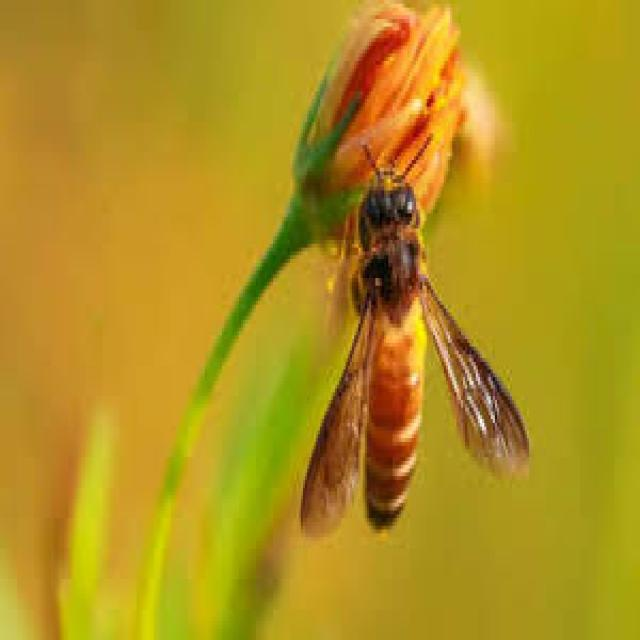Bees: (299, 138, 530, 534)
